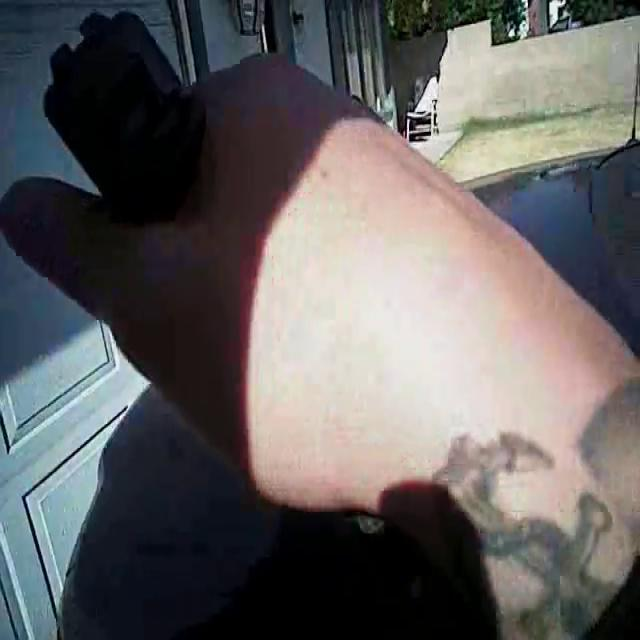gun: (0, 0, 250, 298)
